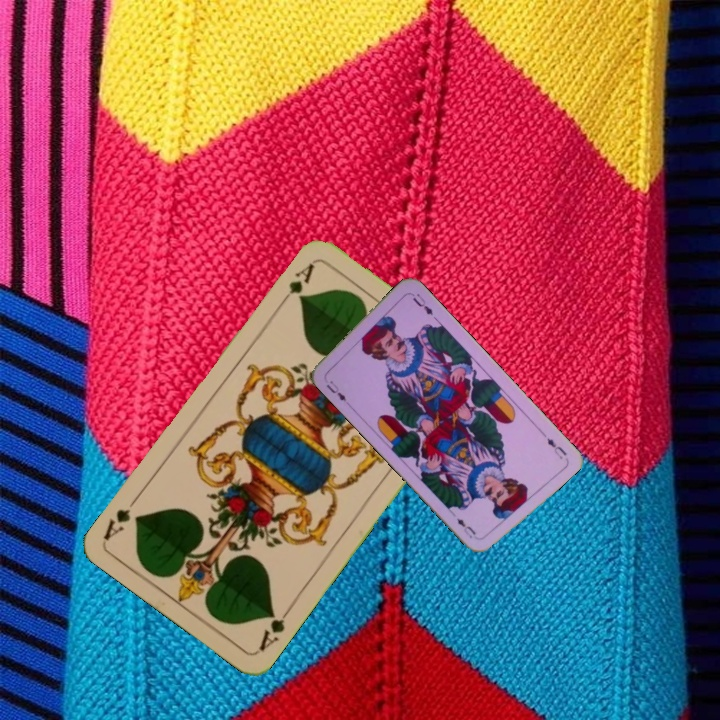EU: (542, 433, 570, 462), (322, 376, 349, 404)
GA: (275, 259, 318, 309), (255, 602, 295, 654)
